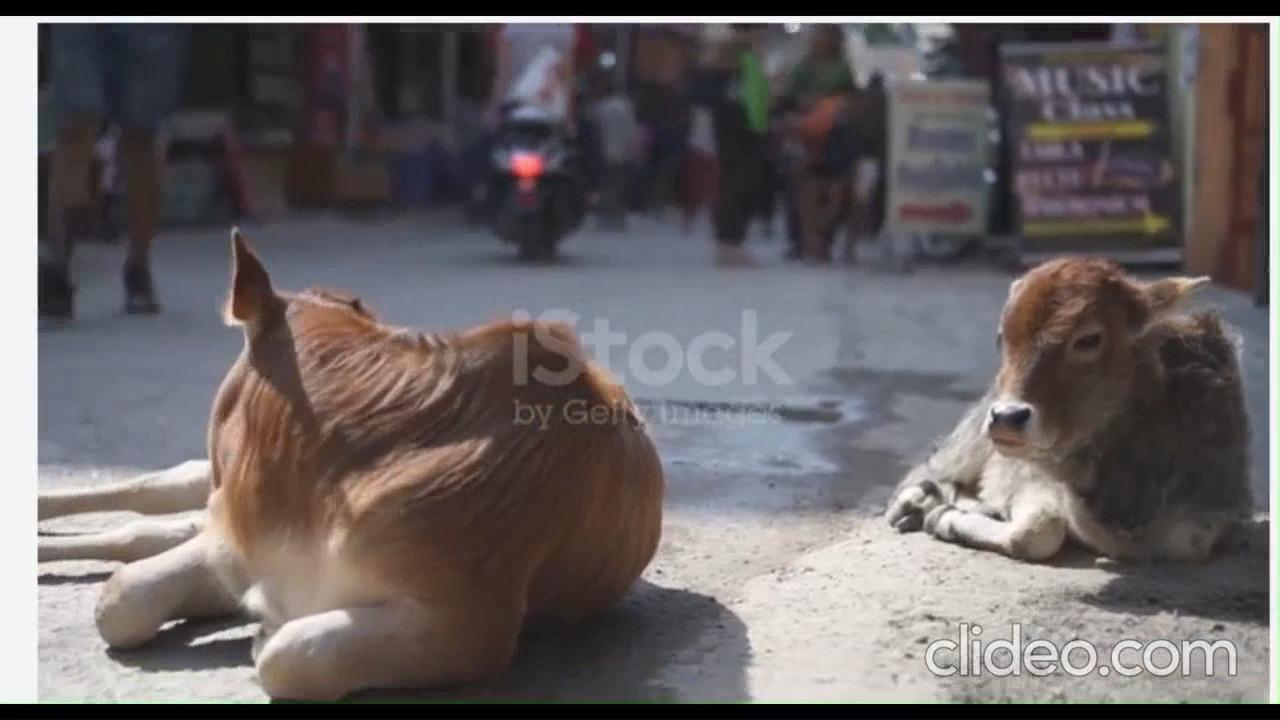Cow: (31, 214, 671, 665), (870, 255, 1254, 569)
